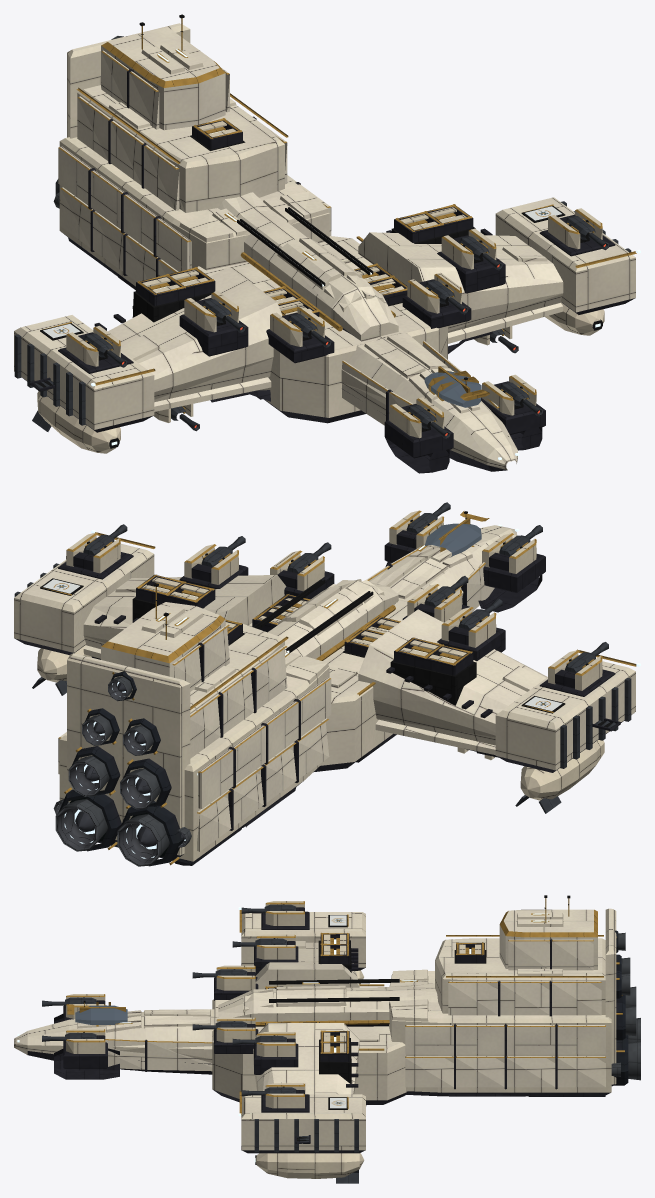
The model's file is europa-schiff6.glb.
3 renders of one model, top to bottom at view 1: azimuth 30°, elevation 25°; view 2: azimuth 150°, elevation 25°; view 3: azimuth 270°, elevation 25°, orthographic. The views are drawn at different scales.
Parts seen in each view (by area): view 1: Hull_LOD0; view 2: Hull_LOD0, Laser_05, Laser_07, Laser_03, Laser_01, Laser_04, Laser_06, Laser_02, Laser_08; view 3: Hull_LOD0.
Part boxes in pixels (x1=…): Hull_LOD0: x1=14, y1=14, x2=640, y2=473; Hull_LOD0: x1=14, y1=510, x2=640, y2=866; Laser_05: x1=201, y1=536, x2=245, y2=567; Laser_07: x1=83, y1=524, x2=127, y2=555; Laser_03: x1=287, y1=542, x2=331, y2=573; Laser_01: x1=406, y1=502, x2=450, y2=533; Laser_04: x1=424, y1=576, x2=468, y2=606; Laser_06: x1=458, y1=598, x2=502, y2=629; Laser_02: x1=499, y1=525, x2=542, y2=556; Laser_08: x1=565, y1=642, x2=608, y2=673; Hull_LOD0: x1=14, y1=895, x2=640, y2=1183.
Bounding box in the file's own units: 67.9 × 28.11 × 81.6.
Materials: 6 (4 with a texture image).
